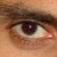eye: (22, 22, 37, 35)
